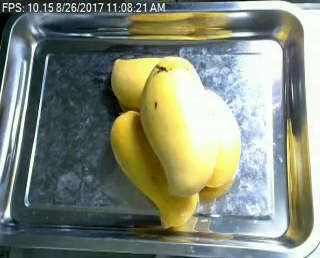Mango: (141, 55, 219, 201), (106, 111, 199, 226), (202, 87, 249, 185), (108, 56, 173, 107)
